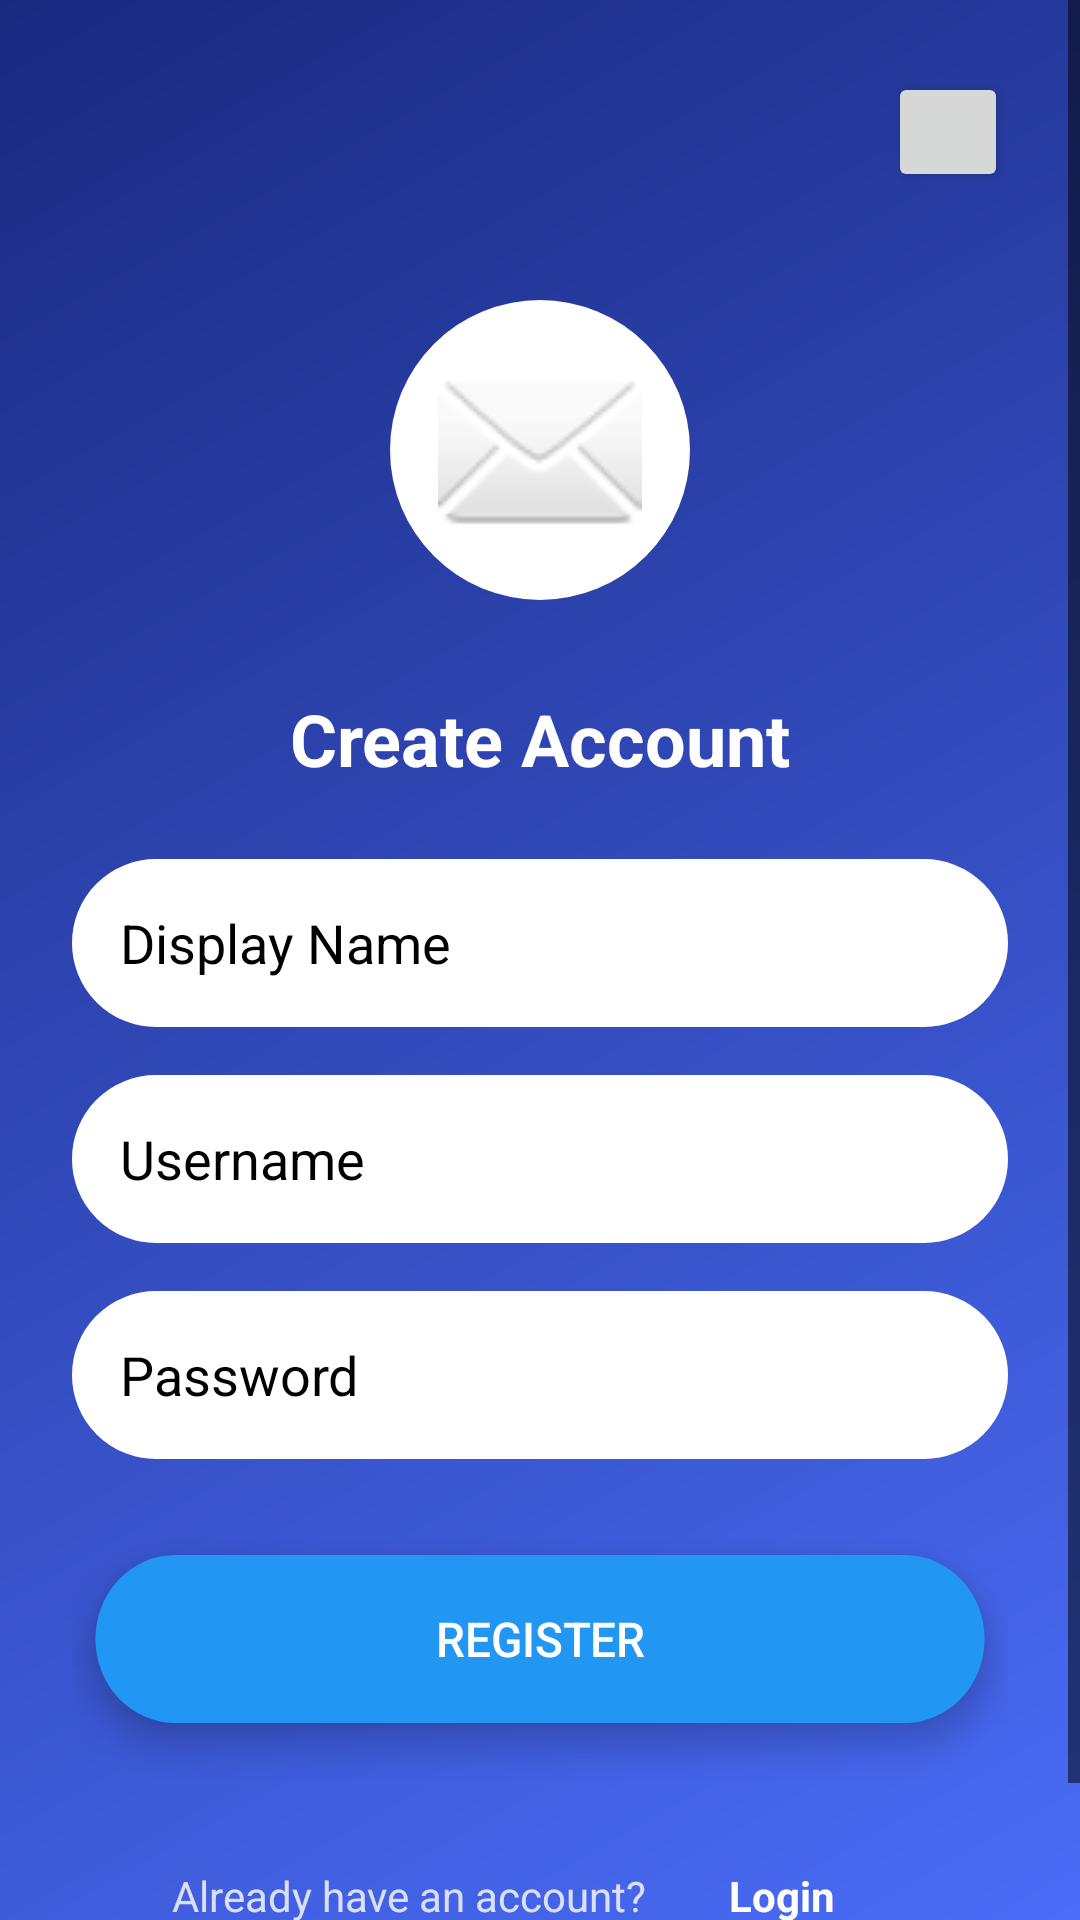

Point at icon controls on the screen. Image size 1080*1920, points as point (x, y).
email: point (540, 450)
